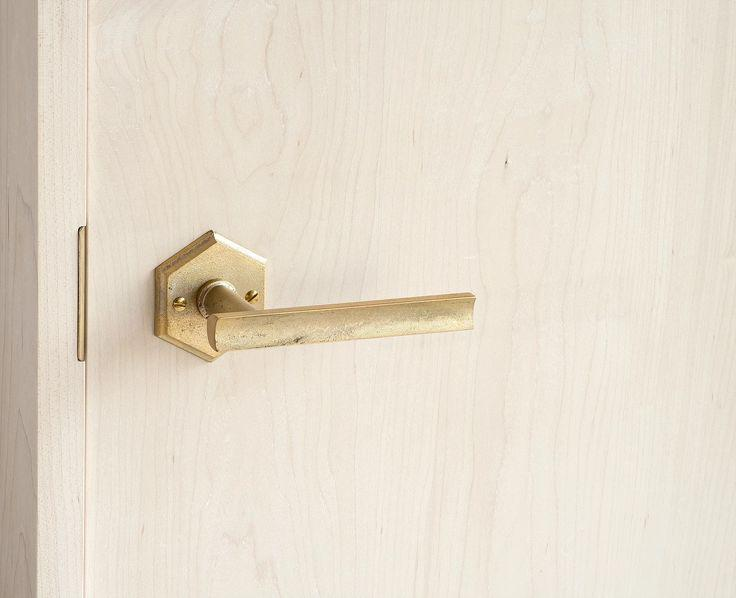doorhandle: (129, 208, 467, 381)
